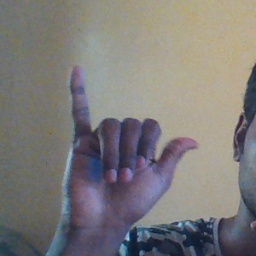J: (58, 63, 199, 221)
